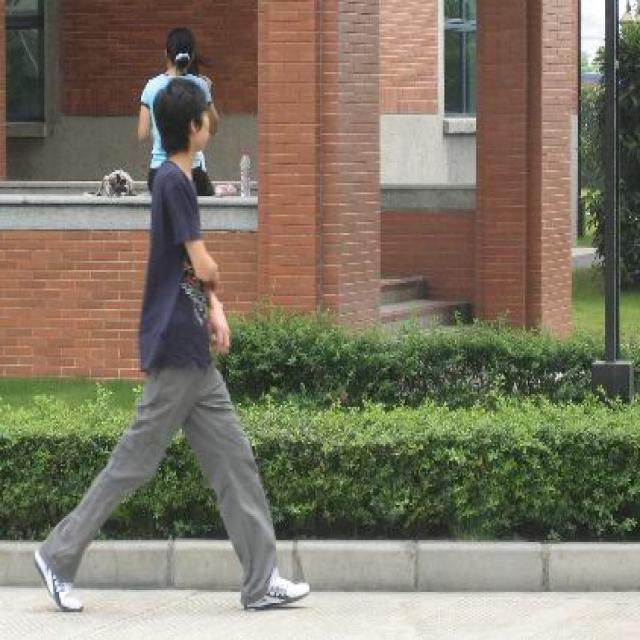adult: (111, 24, 249, 202)
child: (28, 79, 314, 624)
